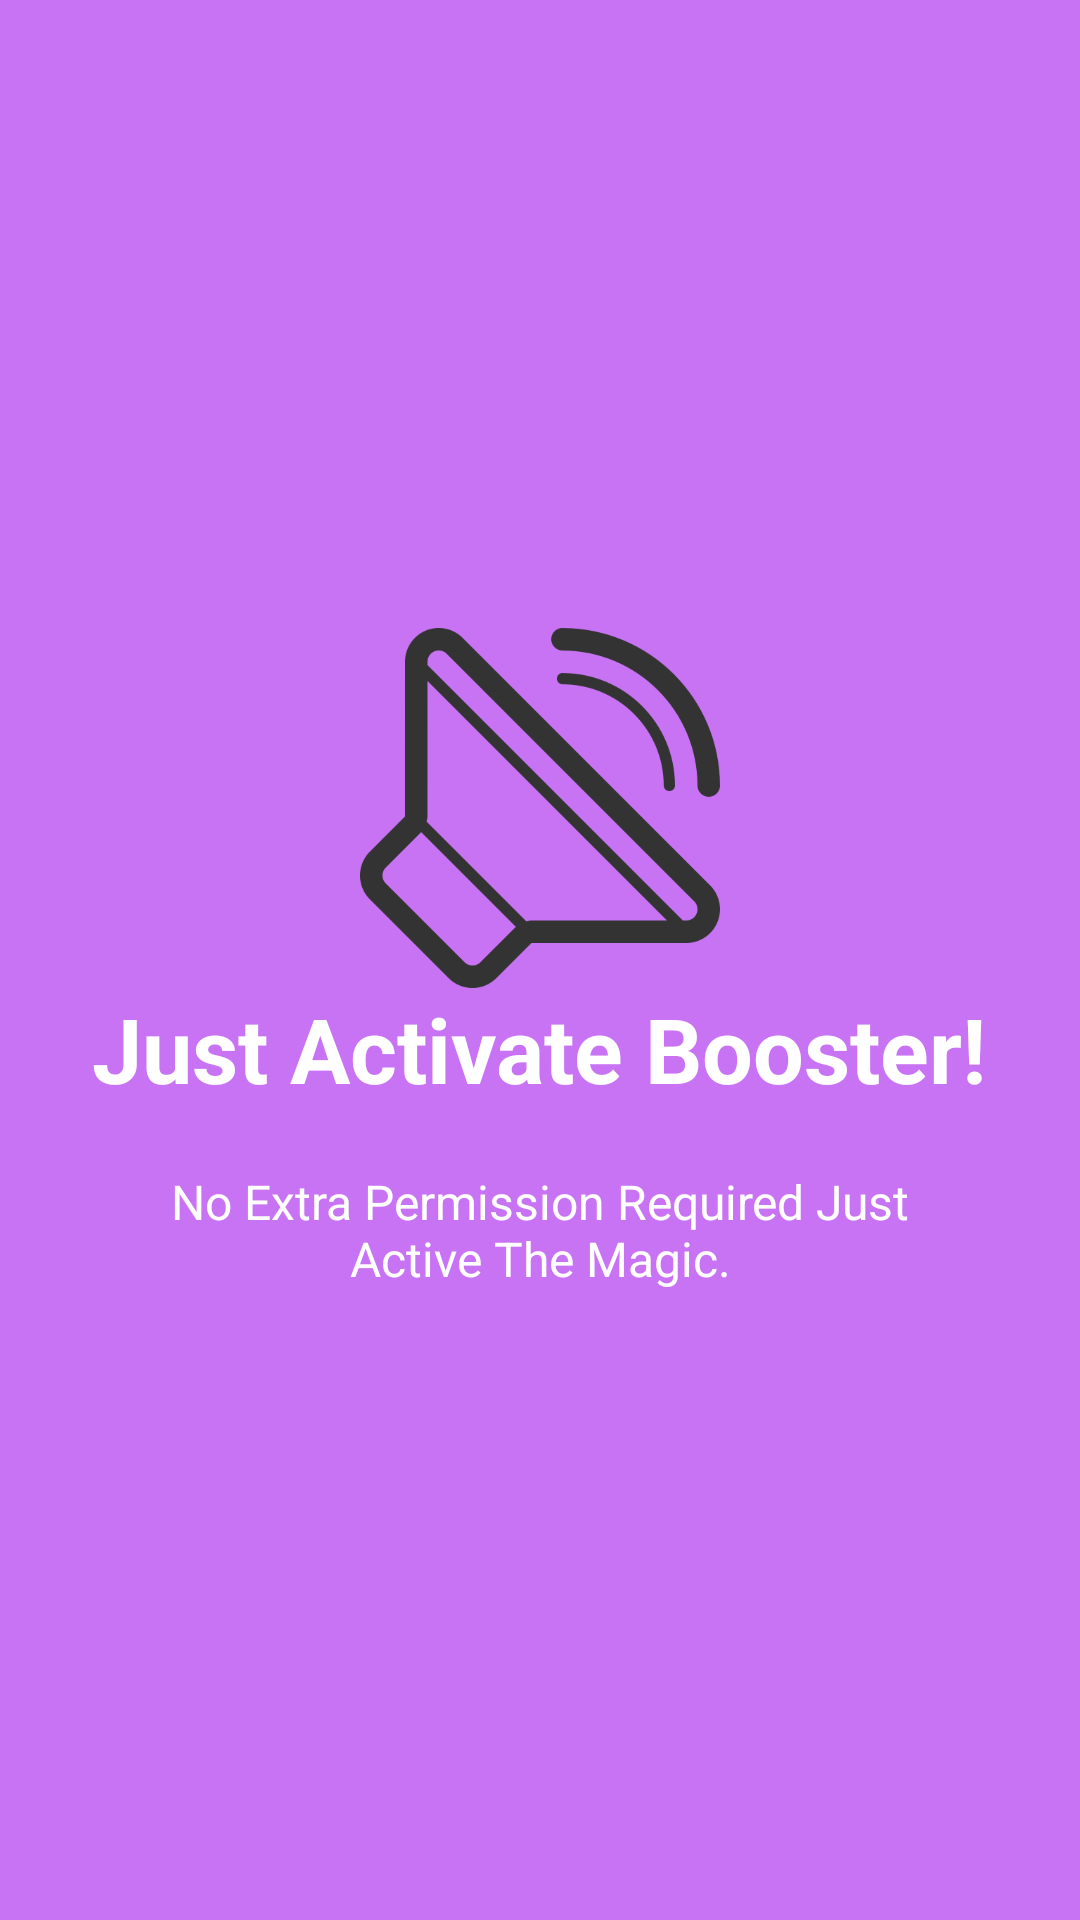

Screen size 1080px x 1920px. Icon name, then its box in pixels as (x1, y1, x2, y2):
speaker: (360, 628, 720, 988)
